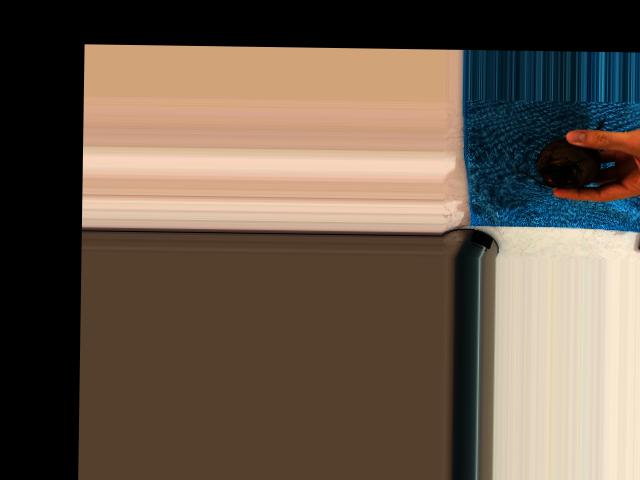beet: (516, 116, 605, 188)
